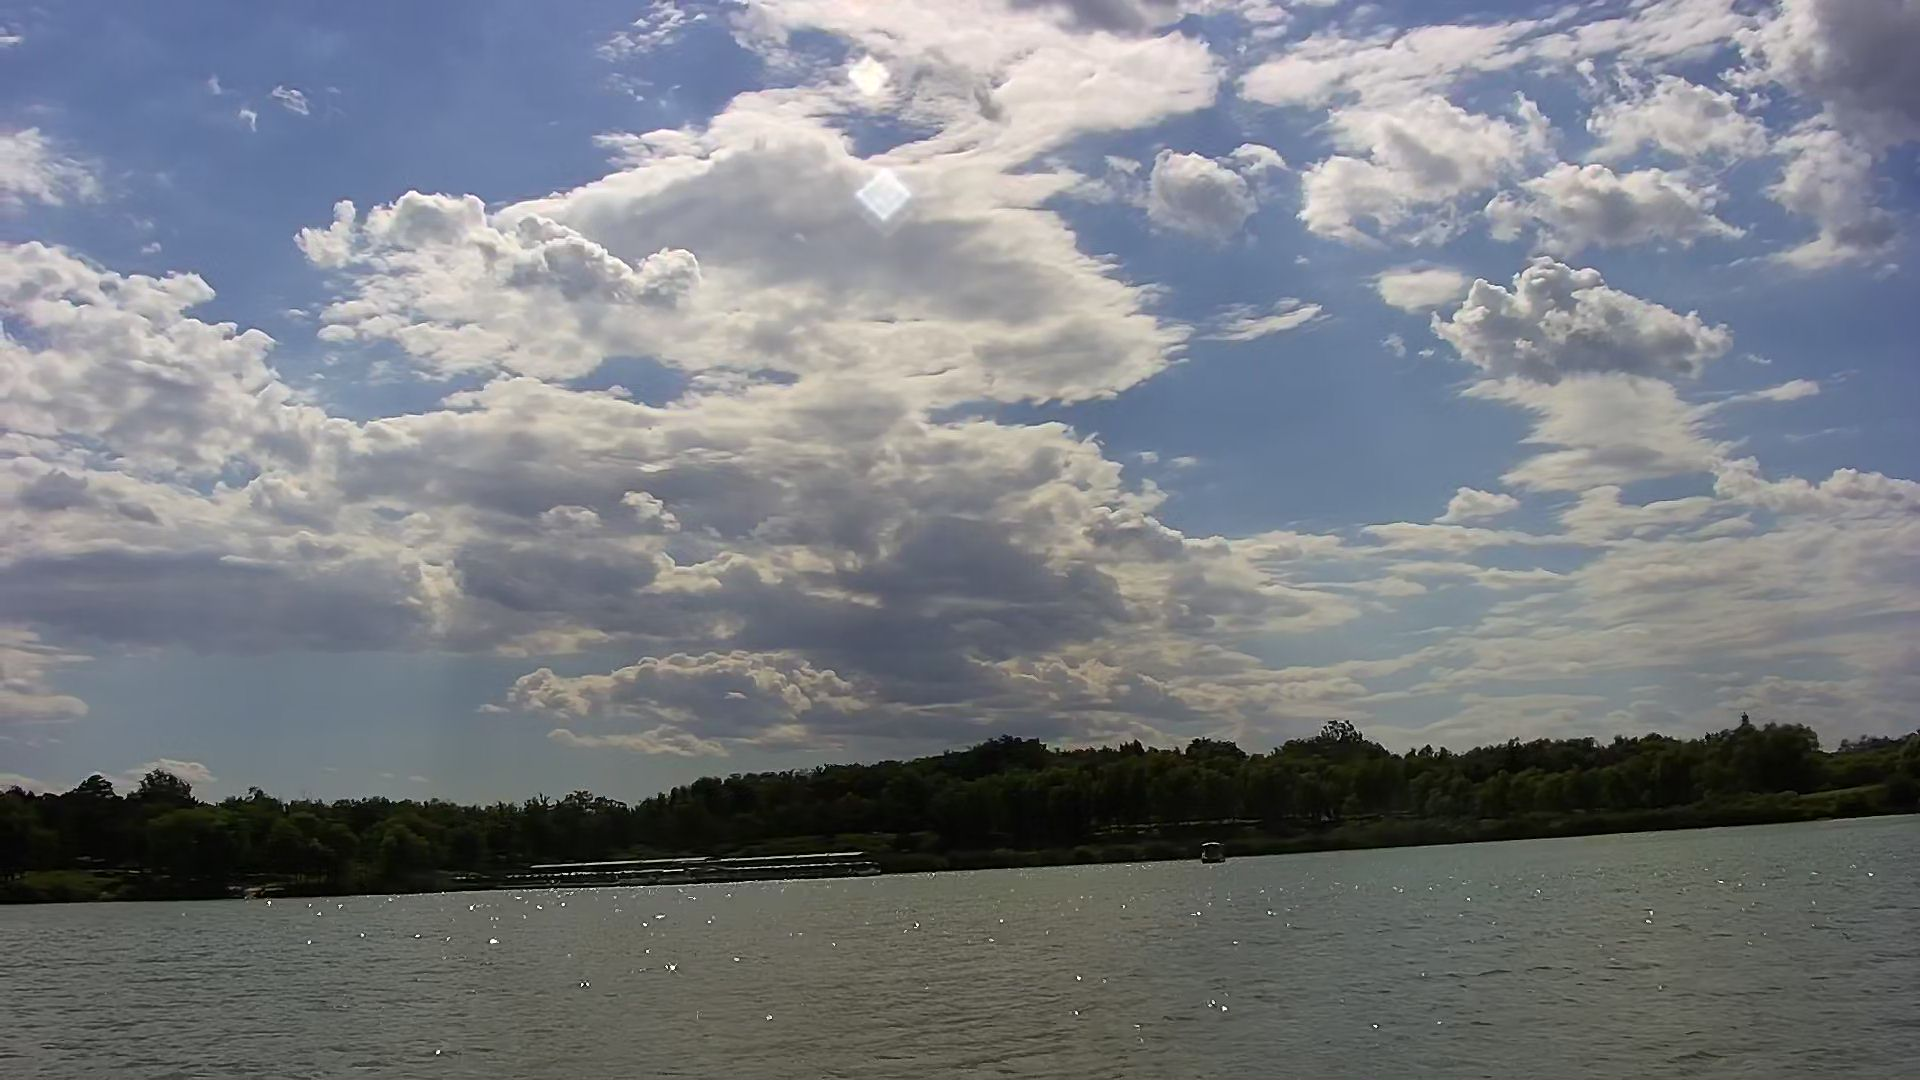boat: (1195, 832, 1232, 866)
harbor: (520, 847, 878, 887)
